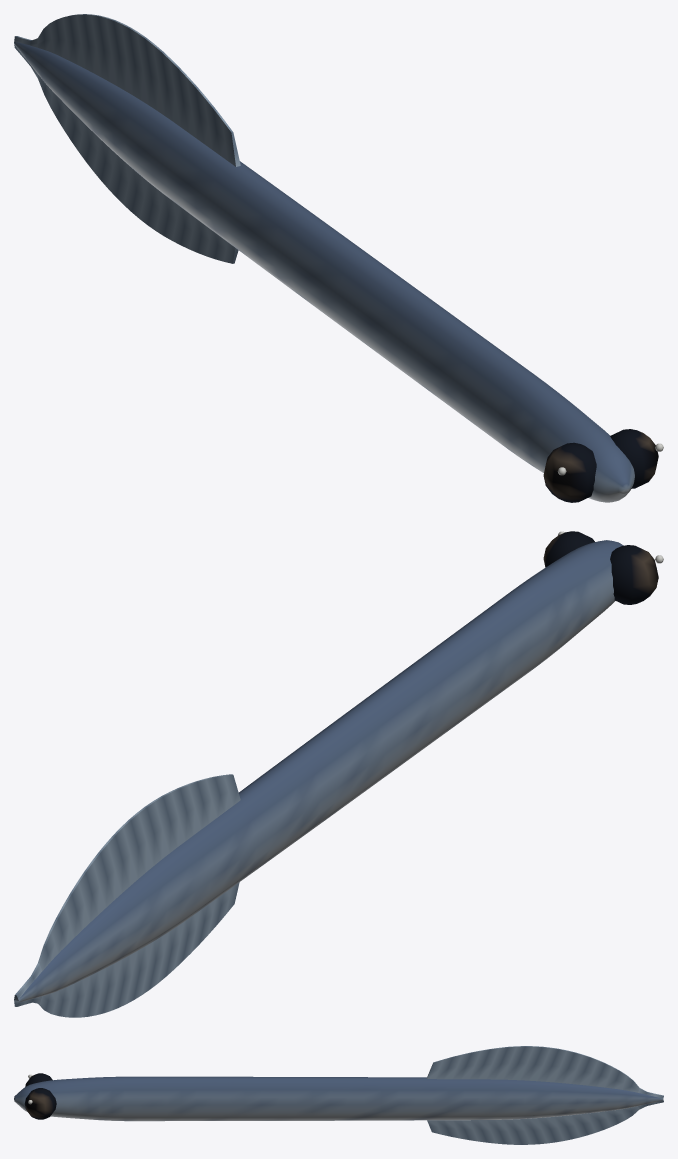
Rendered from Palmatolepis.fbx.
The picture shows the model from 3 angles, top to bottom: view 1: azimuth 30°, elevation 25°; view 2: azimuth 150°, elevation 25°; view 3: azimuth 270°, elevation 25°; orthographic projection. The views are drawn at different scales.
Visible parts, largest first — view 1: Palmatolepis; view 2: Palmatolepis; view 3: Palmatolepis.
Part boxes in pixels (x1,y1,x2,y2): Palmatolepis: (14,14,663,502); Palmatolepis: (14,531,663,1017); Palmatolepis: (14,1046,663,1144).
Bounding box in the file's own units: 0.1706 × 0.2844 × 1.7.
